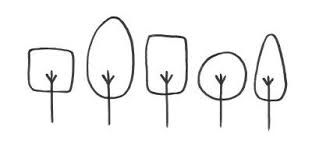tree: (83, 6, 139, 135), (192, 37, 252, 134), (138, 26, 191, 128), (25, 41, 77, 132), (249, 27, 291, 132)
